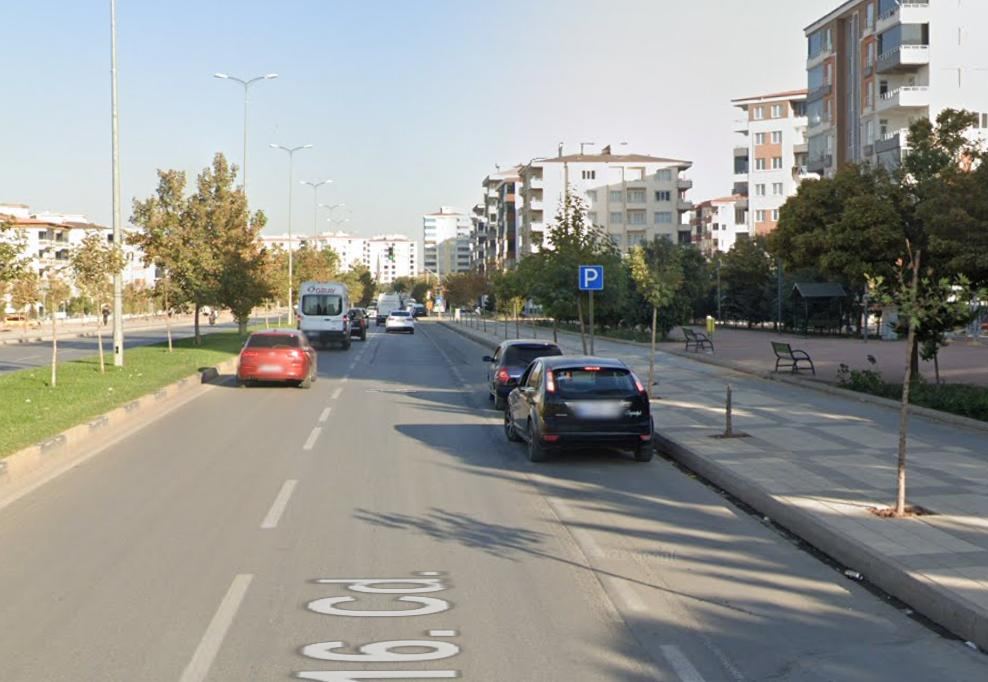greenlight: (388, 246, 394, 261)
park: (580, 266, 603, 290), (580, 266, 602, 290)
